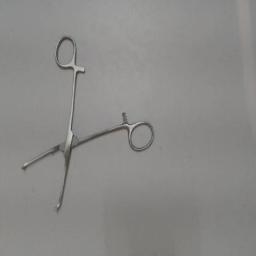Allis Tissue Forceps: (17, 28, 159, 218)
